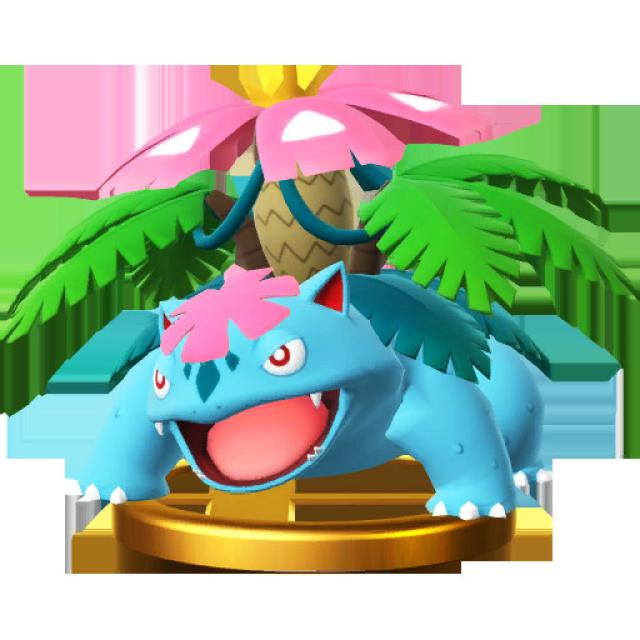Venusaur: (78, 82, 544, 506)
